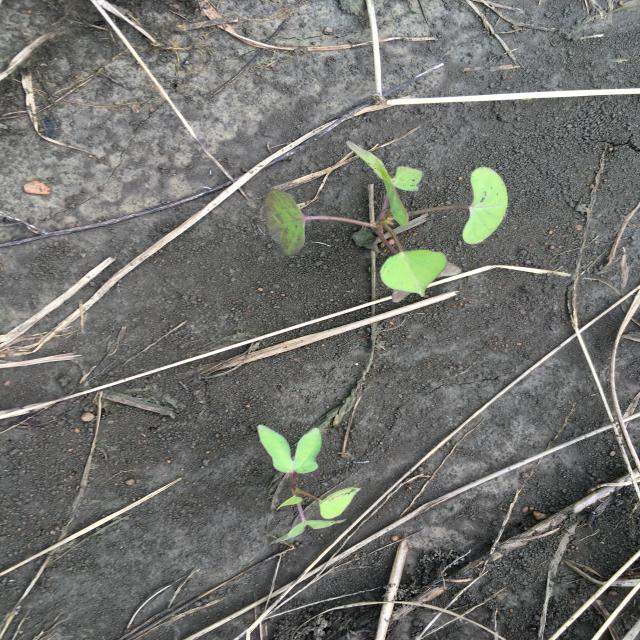MorningGlory: (257, 138, 512, 298), (254, 423, 365, 547)
